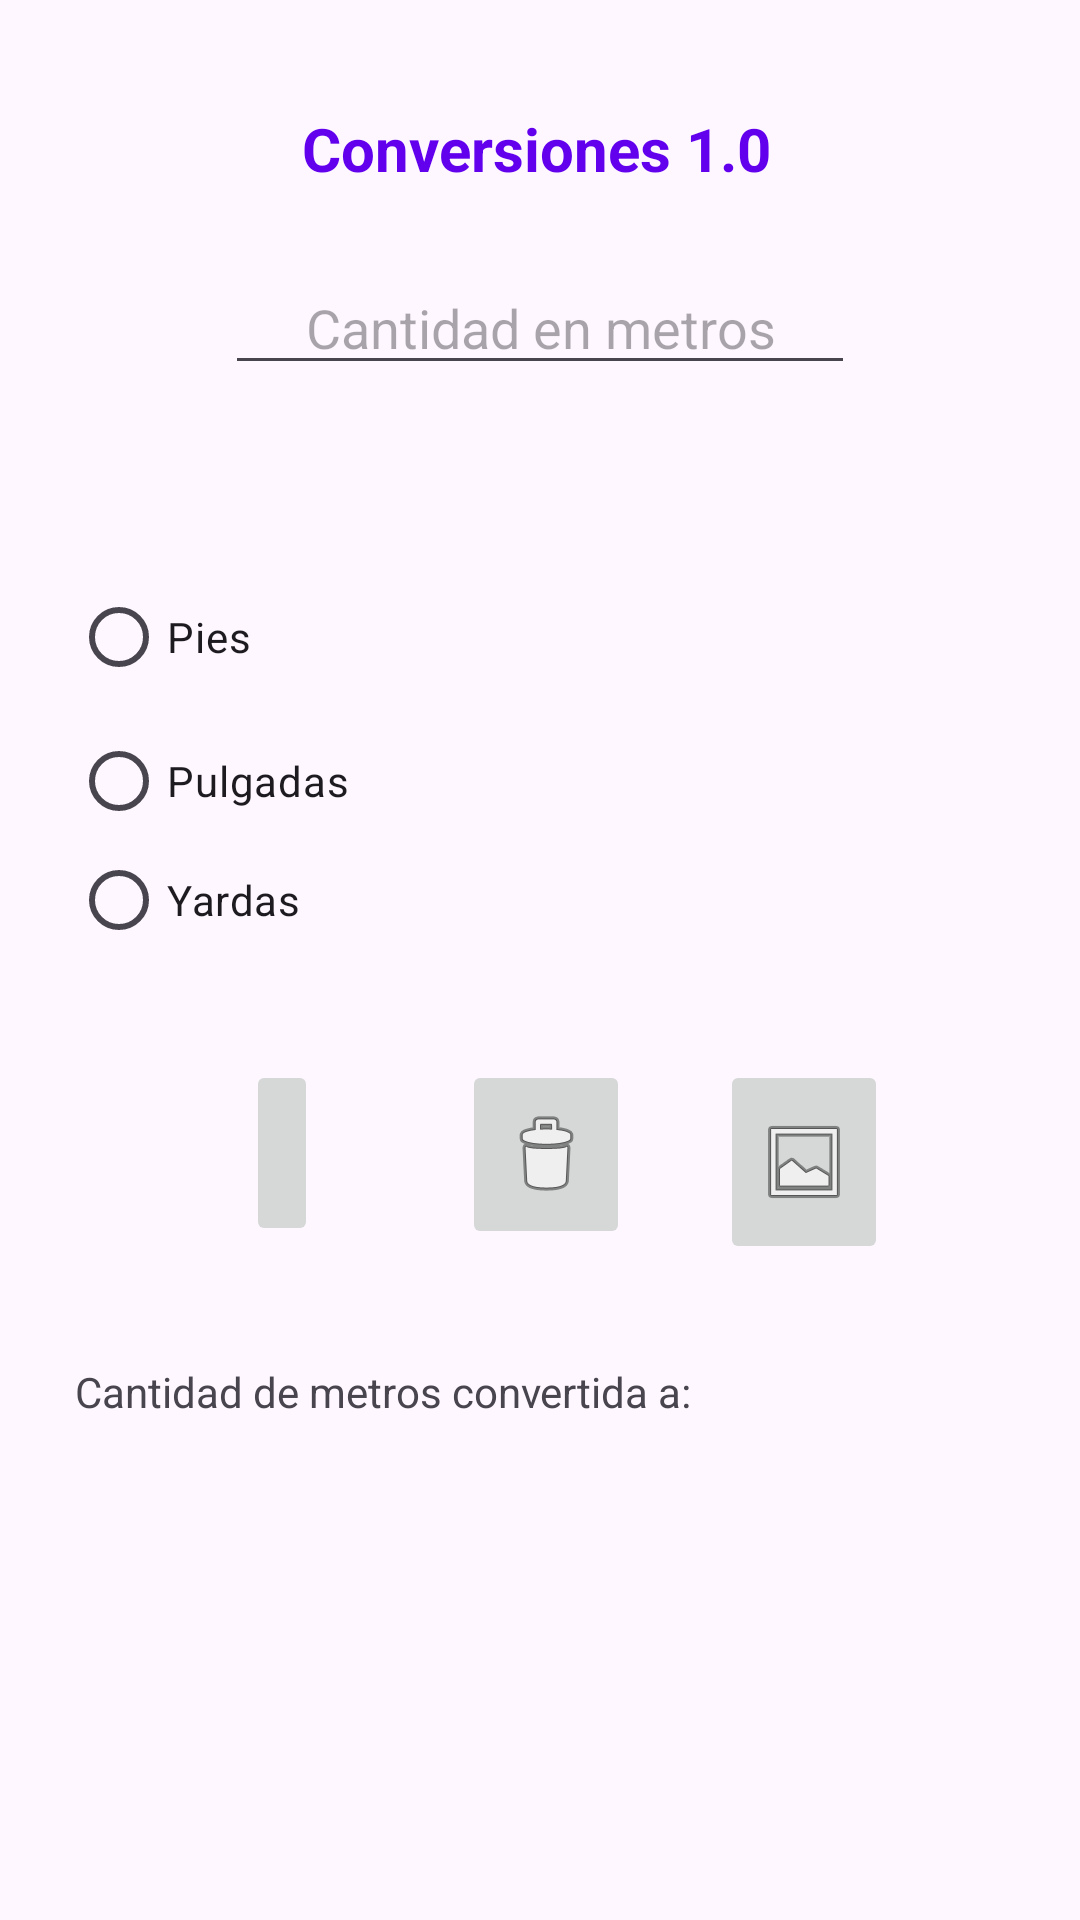

Icon click points for this 1080*1920 phone screenshot, format (x=x, y=y):
delete: (x=546, y=1154)
gallery: (x=804, y=1162)
